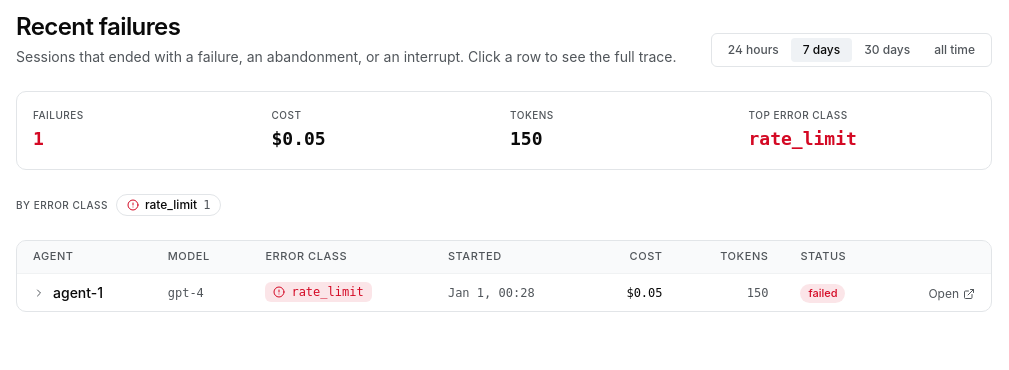
Test: Failures page › expands a row on click to show the 1-line summary (SOW-0083 A13)
Expected: the text "root session" is not shown
Expected: the text "agent-1" is shown, [53,284,103,300]
Click the text "agent-1" at (504, 292), box [17,273,991,311]
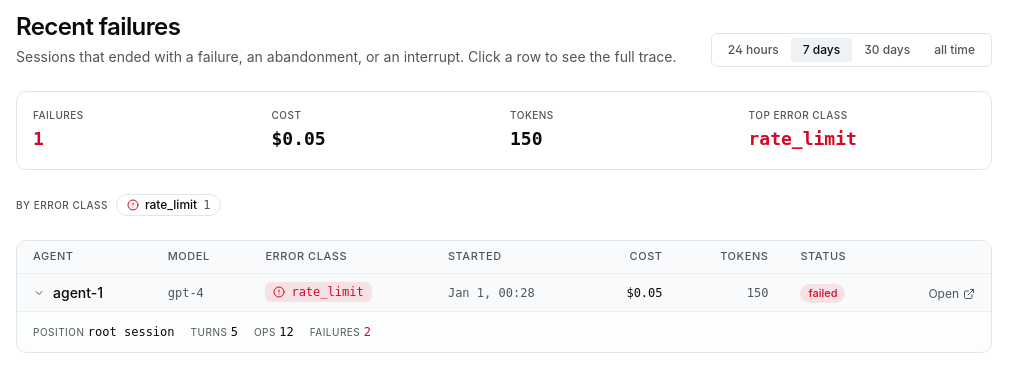
Now the text "root session" is shown, box [88,325,174,339]
Now the text "5" is shown, box [231,325,238,339]
Now the text "12" is shown, box [279,325,294,339]
